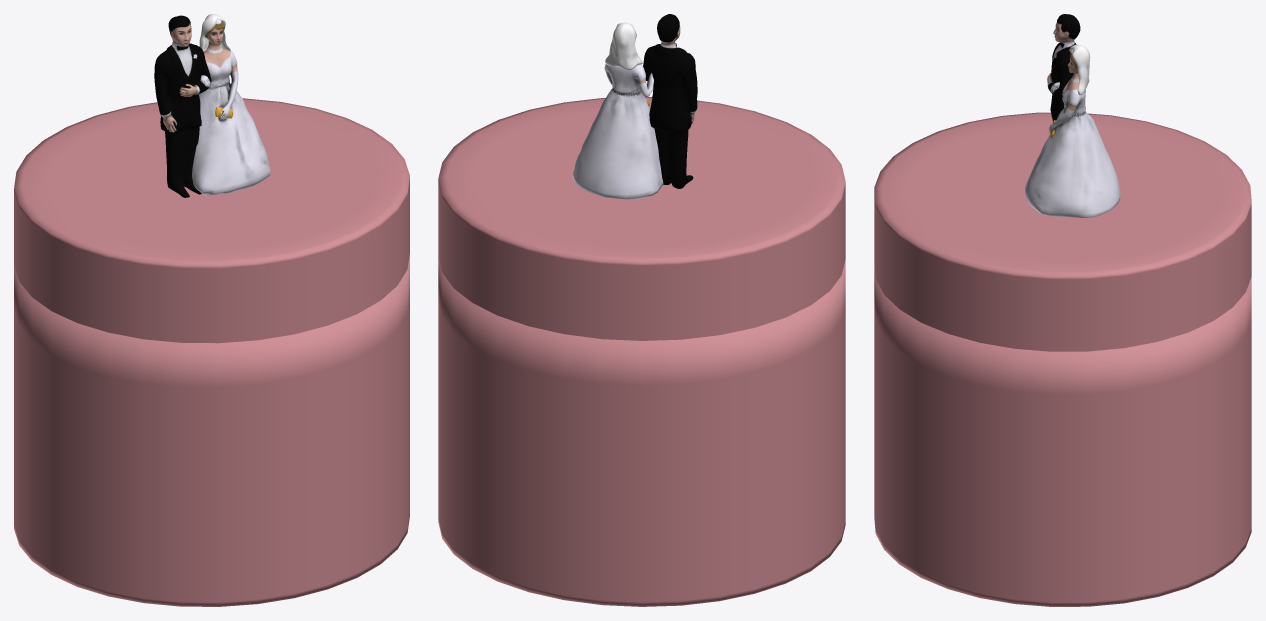
File: 1-tier-blush-none-bridegroom.glb
3 renders of one model, left to right at view 1: azimuth 30°, elevation 25°; view 2: azimuth 150°, elevation 25°; view 3: azimuth 270°, elevation 25°, orthographic. The views are drawn at different scales.
Visible parts, largest first — view 1: Cylinder.019, 13501_Cake_Topper_Bride_Groom_v1_L1.004; view 2: Cylinder.019, 13501_Cake_Topper_Bride_Groom_v1_L1.004; view 3: Cylinder.019, 13501_Cake_Topper_Bride_Groom_v1_L1.004.
Boxes of the visible parts, x1,y1,x2,y2 form: Cylinder.019: (14, 98, 409, 606); 13501_Cake_Topper_Bride_Groom_v1_L1.004: (154, 14, 270, 197); Cylinder.019: (438, 97, 845, 606); 13501_Cake_Topper_Bride_Groom_v1_L1.004: (572, 14, 697, 199); Cylinder.019: (874, 112, 1251, 606); 13501_Cake_Topper_Bride_Groom_v1_L1.004: (1024, 14, 1120, 217).
Size of the model in its own units: 2.63 by 3.7 by 2.55.
Materials: 2 (1 with a texture image).
